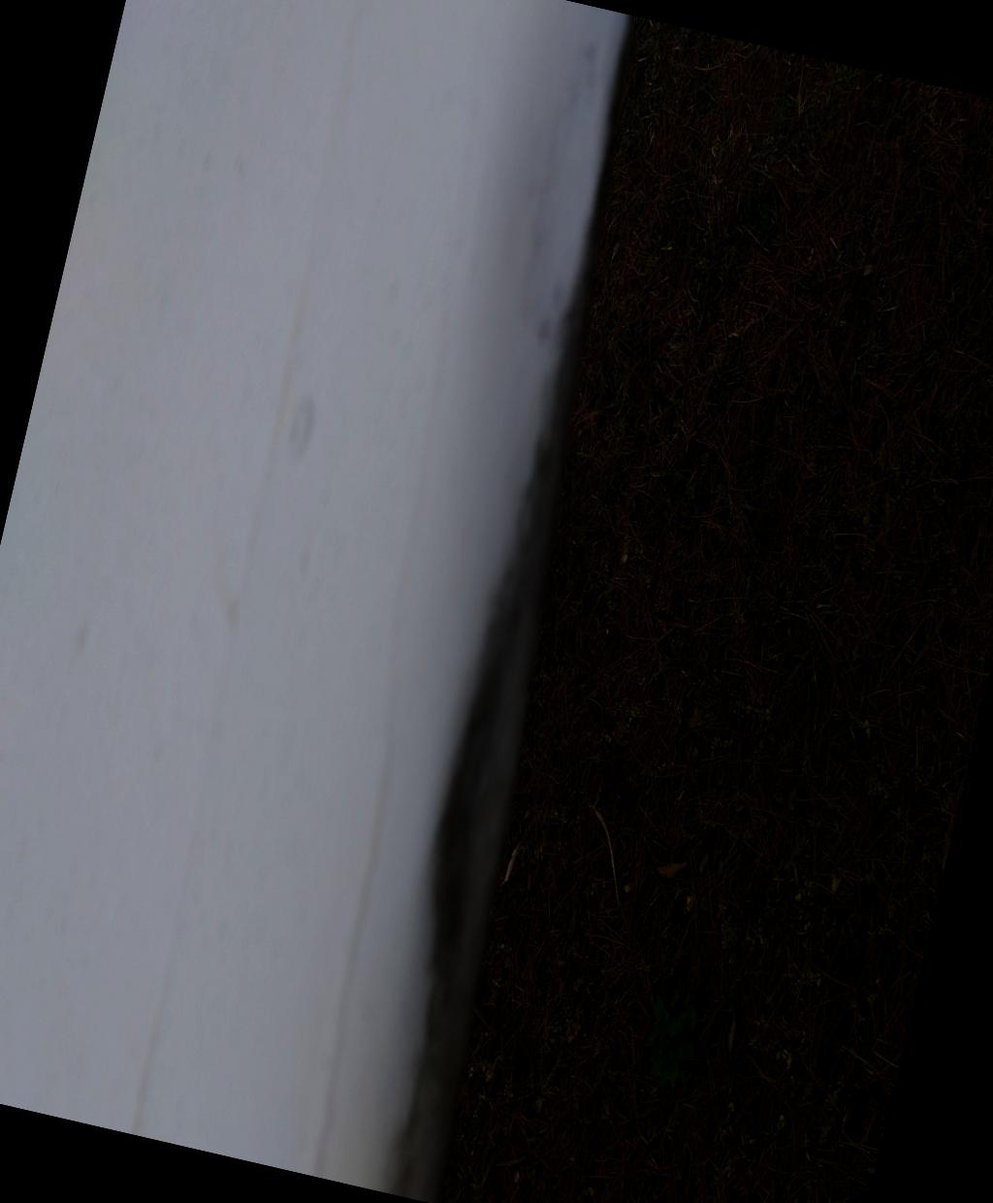dent: (0, 909, 214, 1144)
